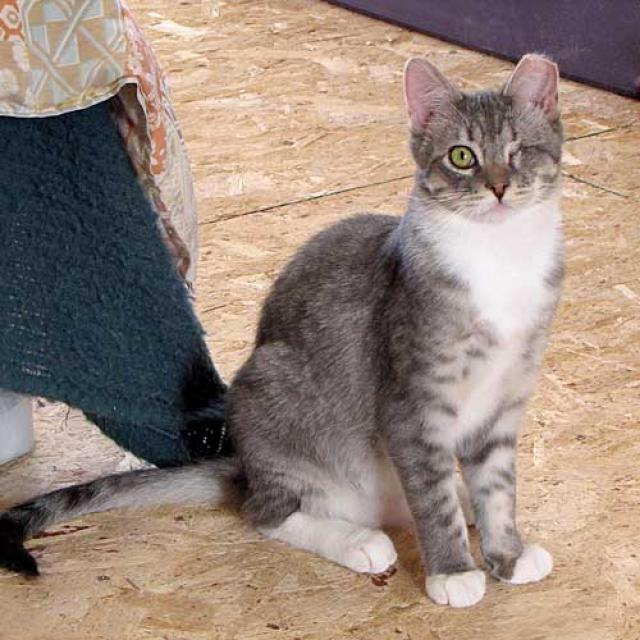cat: (0, 55, 564, 607)
